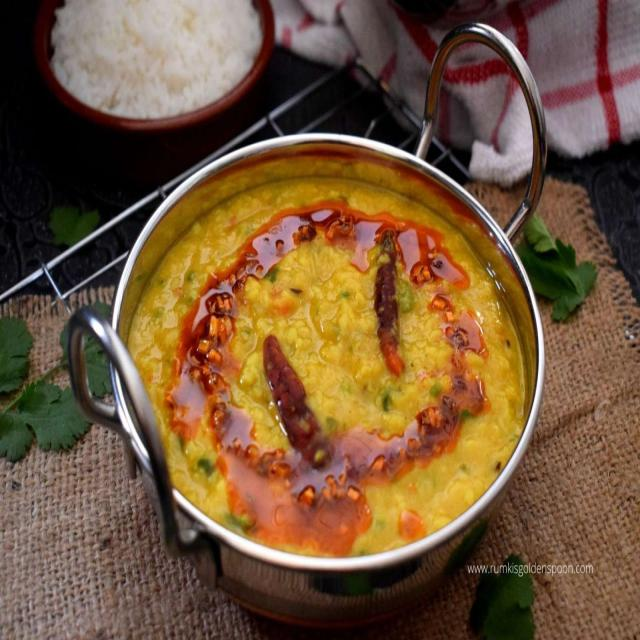dal: (182, 227, 488, 509)
